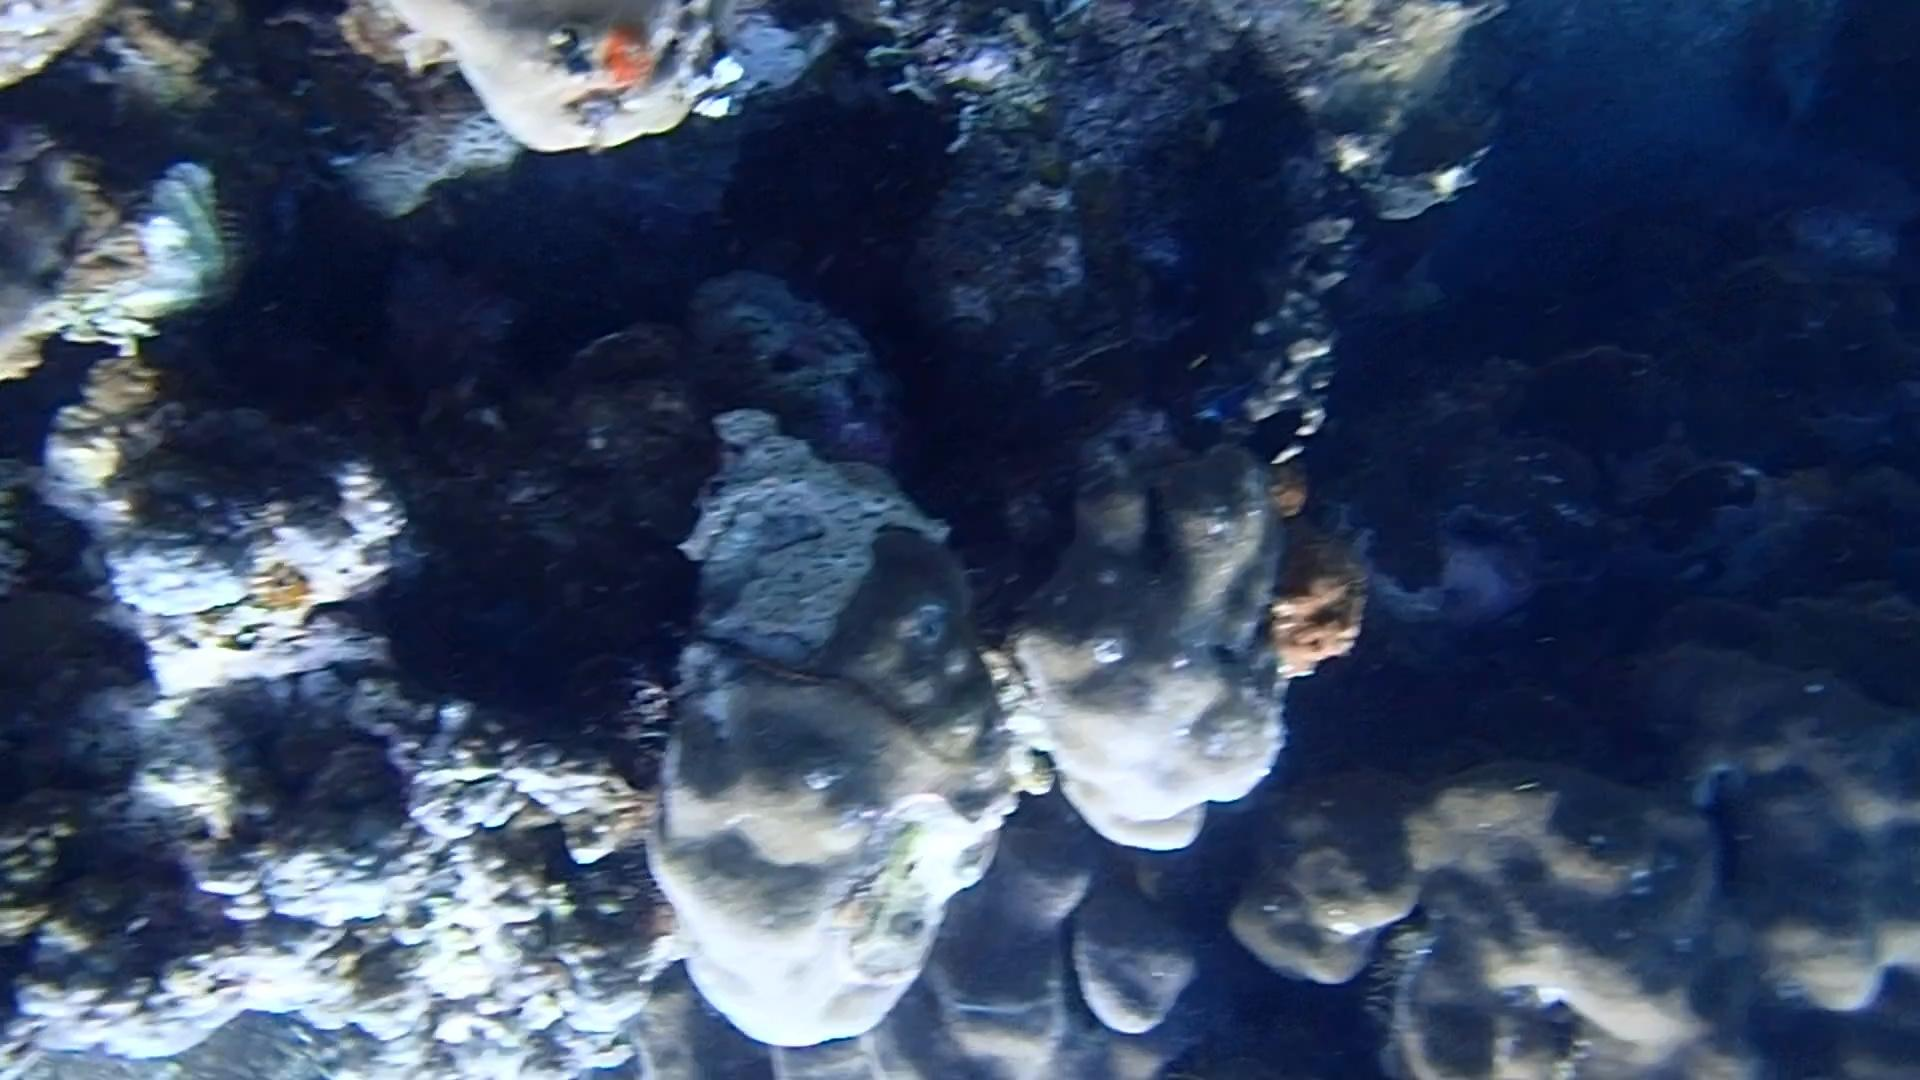Dark Fish: (1229, 394, 1325, 472)
